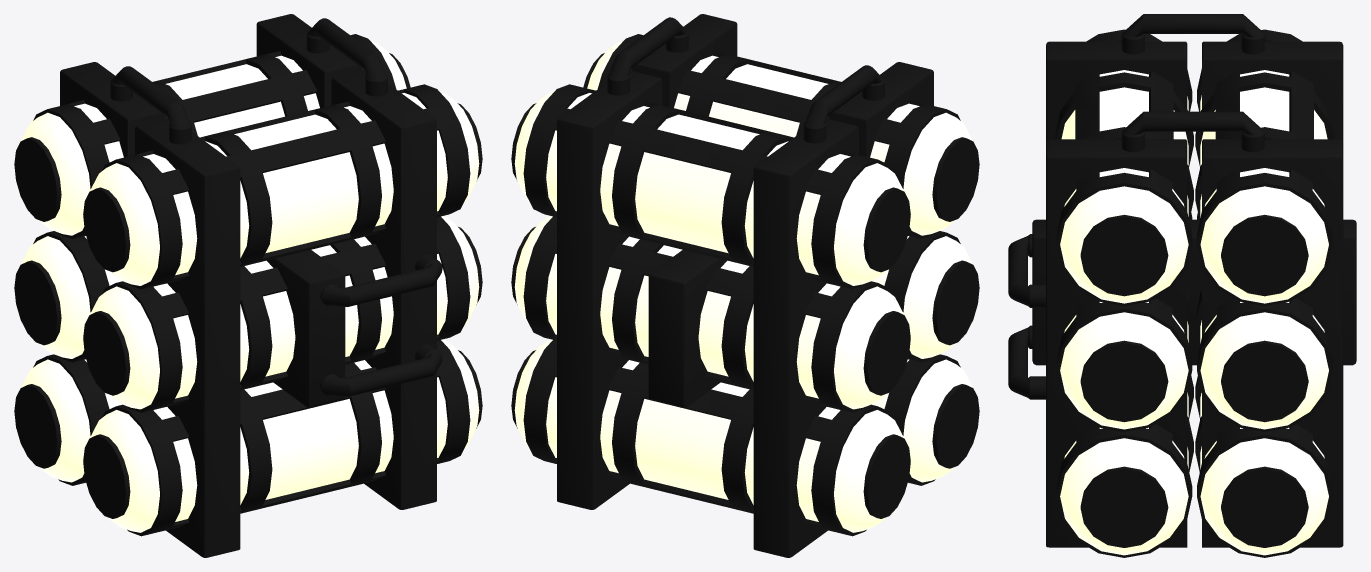
File: Ielsek Crate.fbx
3 renders of one model, left to right at view 1: azimuth 30°, elevation 25°; view 2: azimuth 150°, elevation 25°; view 3: azimuth 270°, elevation 25°, orthographic. The views are drawn at different scales.
Visible parts, largest first — view 1: Ielsek Crate; view 2: Ielsek Crate; view 3: Ielsek Crate.
Boxes of the visible parts, x1,y1,x2,y2 form: Ielsek Crate: (14,14,482,557); Ielsek Crate: (511,14,979,557); Ielsek Crate: (1008,14,1356,557).
Bounding box in the file's own units: 131 × 146 × 108.
